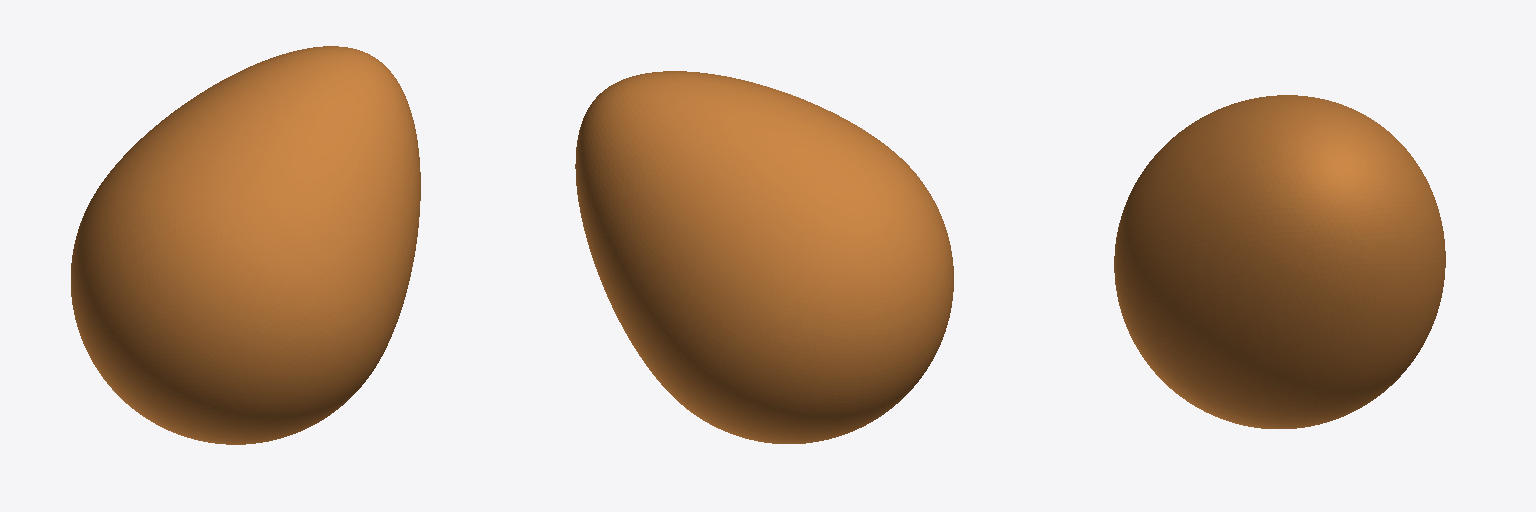
The model's file is egg.obj.
3 renders of one model, left to right at view 1: azimuth 30°, elevation 25°; view 2: azimuth 150°, elevation 25°; view 3: azimuth 270°, elevation 25°, orthographic.
Parts seen in each view (by area): view 1: Icosphere; view 2: Icosphere; view 3: Icosphere.
Part boxes in pixels (x1,y1,x2,y2): Icosphere: (71,46,420,444); Icosphere: (575,71,953,443); Icosphere: (1114,95,1445,428).
Size of the model in its own units: 2.29 by 2.25 by 2.01.